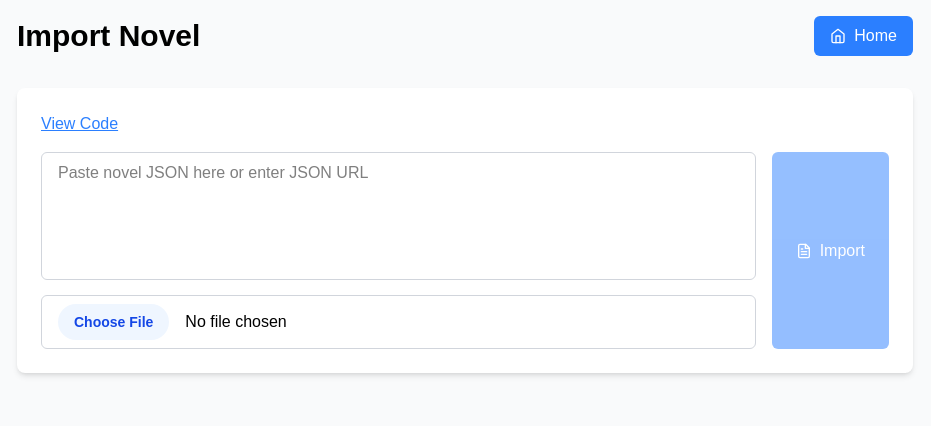
Test: ImportPage › JSON Paste Input › shows error for invalid JSON from textarea
The width and height of the screenshot is (931, 426).
Type "invalid json" into the text box with placeholder "Paste novel JSON here or enter JSON URL" at (398, 216), box [41,152,756,280]
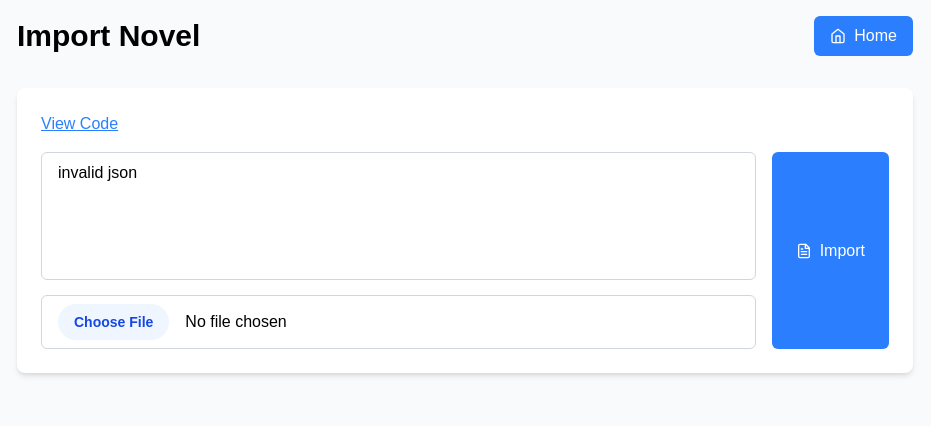
Click the button "Import" at (830, 250), box [772,152,889,349]
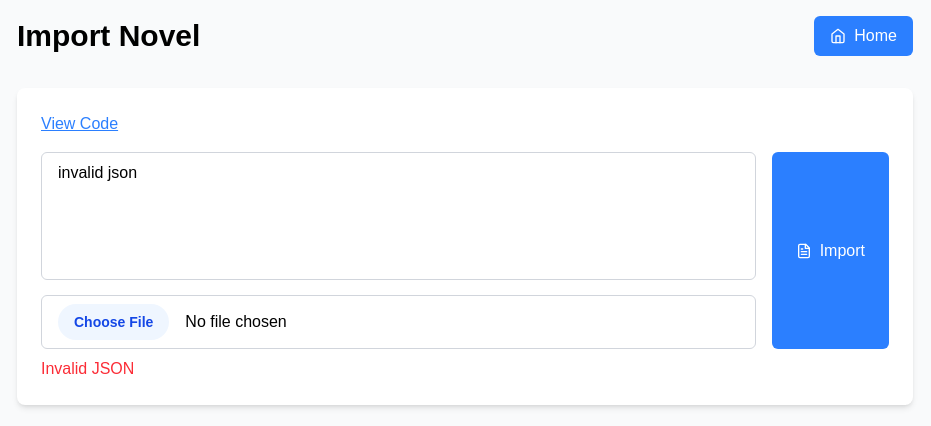
Now the text "Invalid JSON" is shown, box [41,360,134,377]
